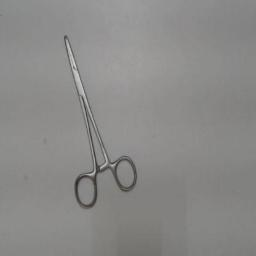Mayo Needle Holder: (58, 28, 142, 214)
